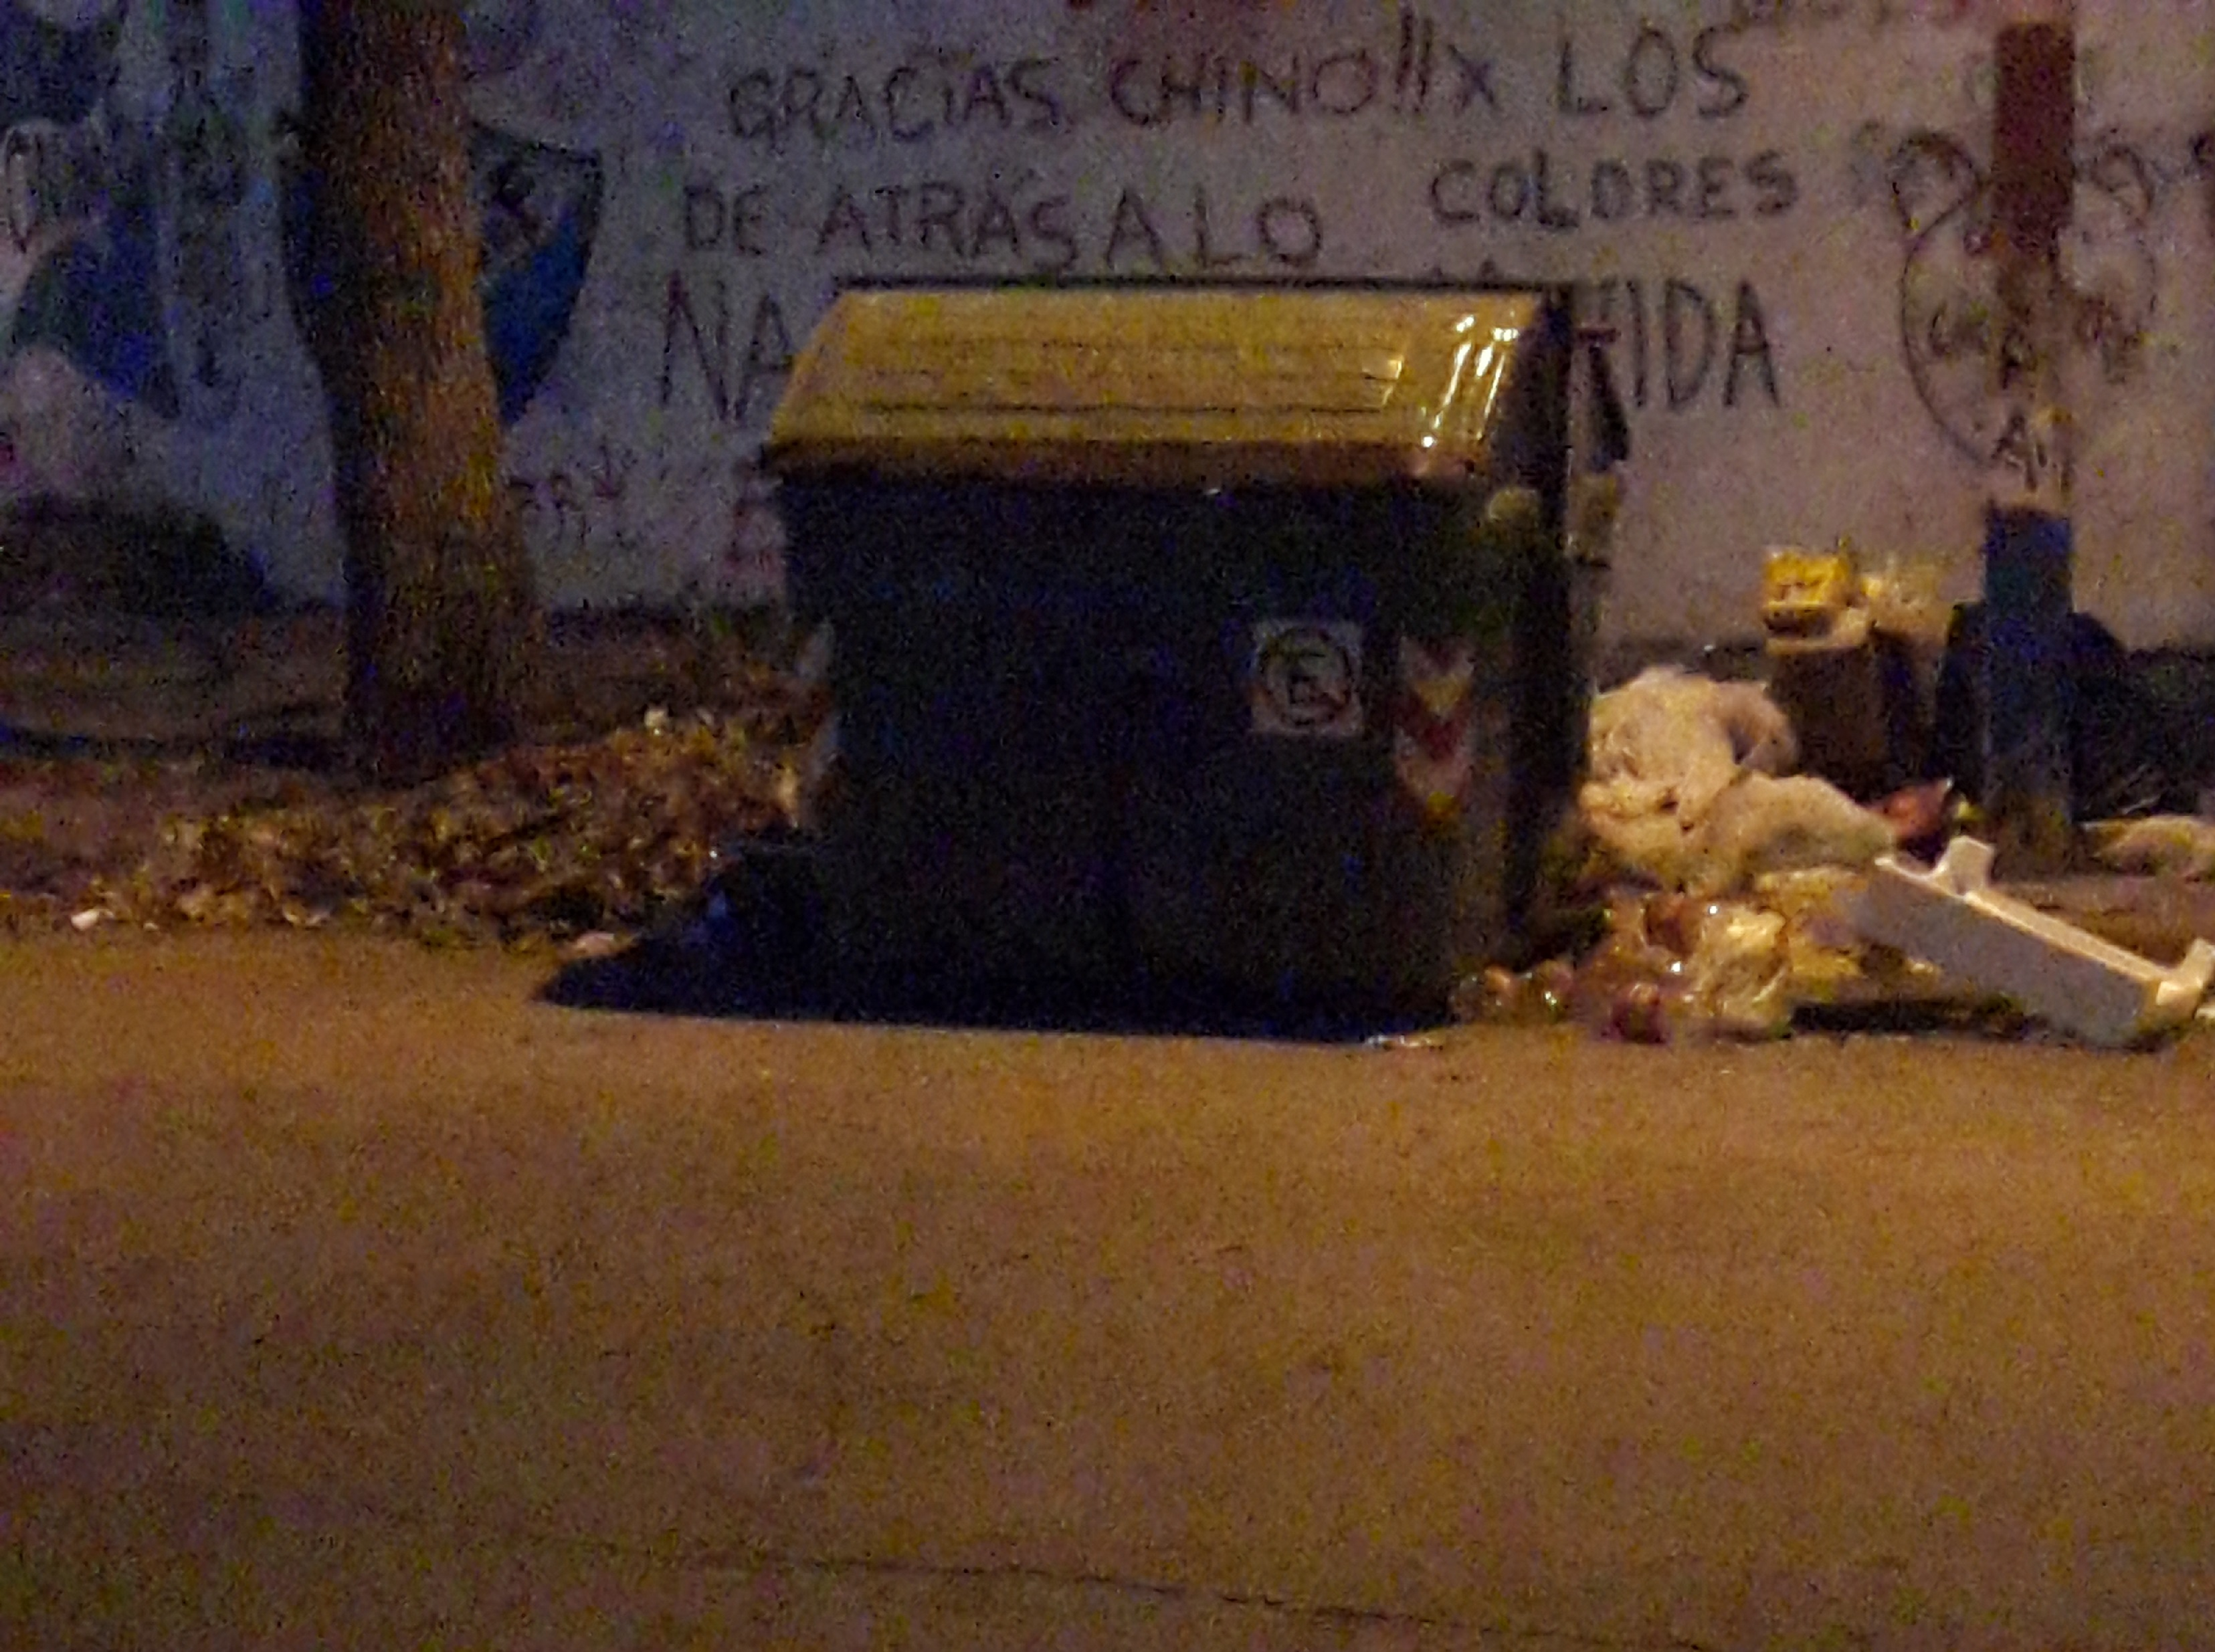container: (753, 255, 1647, 1015)
